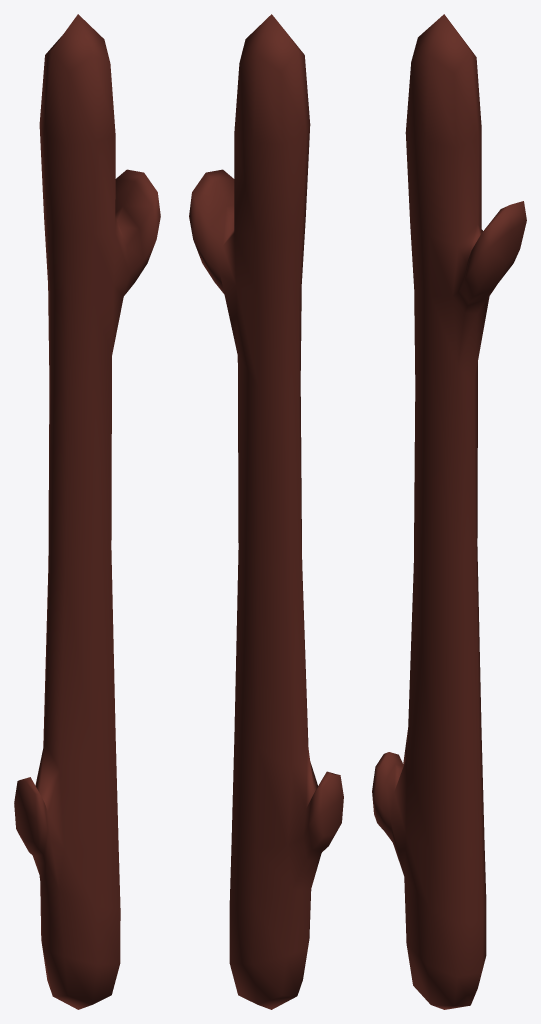
Rendered from stick-1.fbx.
The picture shows the model from 3 angles, left to right: view 1: azimuth 30°, elevation 25°; view 2: azimuth 150°, elevation 25°; view 3: azimuth 330°, elevation 25°; orthographic projection.
Parts seen in each view (by area): view 1: stick-1; view 2: stick-1; view 3: stick-1.
Part boxes in pixels (<box>): stick-1: <box>14,14,160,1009</box>; stick-1: <box>189,14,343,1009</box>; stick-1: <box>372,14,526,1009</box>.
Size of the model in its own units: 83.27 by 632 by 56.54.
